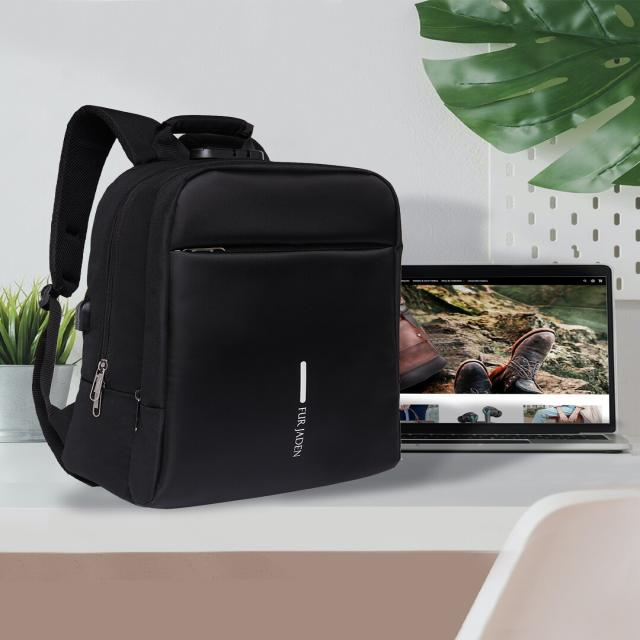backpack: (32, 105, 404, 510)
